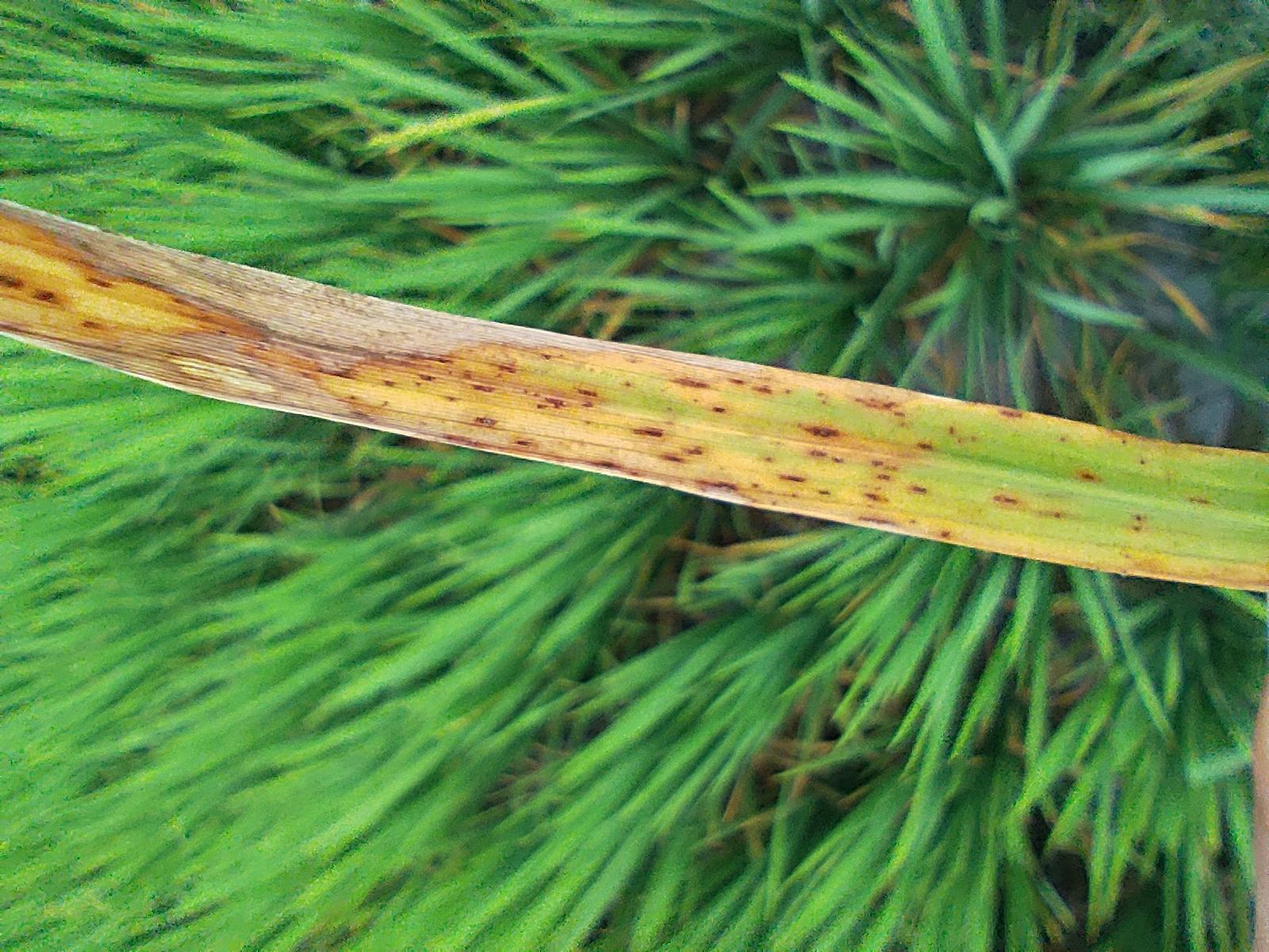LEAF: (481, 0, 1000, 951)
NBS: (722, 642, 740, 674), (752, 502, 767, 532), (687, 603, 701, 630), (883, 0, 902, 19), (686, 472, 699, 497), (885, 65, 899, 84), (571, 643, 581, 668), (626, 583, 637, 605), (652, 494, 663, 515), (597, 745, 609, 763), (702, 355, 713, 374), (869, 24, 881, 41), (595, 890, 606, 908), (725, 409, 738, 424), (830, 60, 841, 77), (712, 749, 722, 767), (744, 564, 756, 579), (746, 353, 755, 373), (663, 512, 675, 527), (770, 374, 782, 388), (611, 680, 622, 695), (755, 544, 766, 558), (760, 313, 771, 327), (687, 710, 706, 718), (740, 433, 750, 448), (659, 606, 669, 621), (669, 686, 679, 700), (601, 648, 611, 661), (673, 387, 682, 399), (629, 810, 638, 821), (628, 656, 637, 667), (753, 287, 762, 297), (718, 534, 726, 544), (722, 402, 730, 412), (678, 717, 687, 724), (713, 670, 720, 679), (648, 653, 654, 663), (609, 613, 615, 623), (679, 727, 687, 733)
